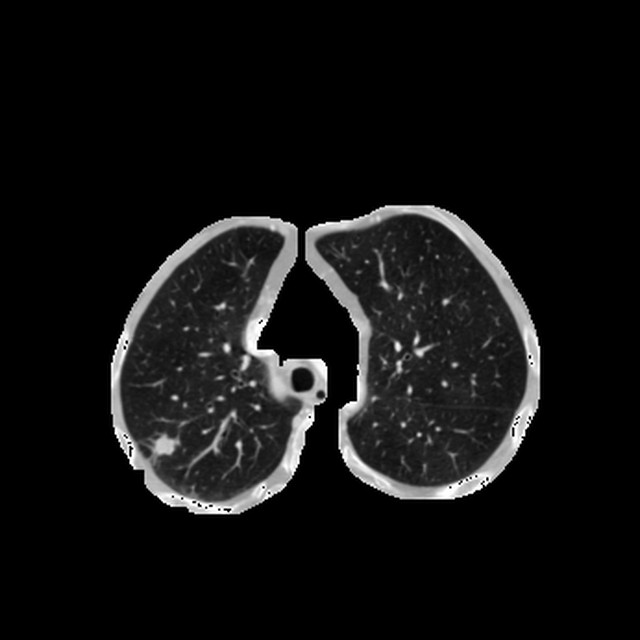PN: (152, 435, 174, 457)
